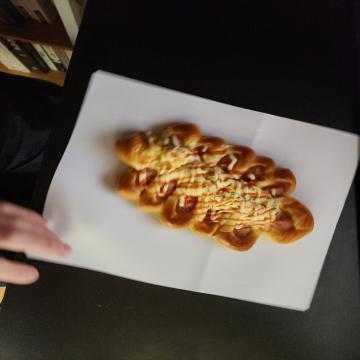pizza_bread: (123, 47, 254, 249)
